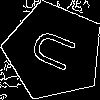U: (28, 26, 86, 78)
